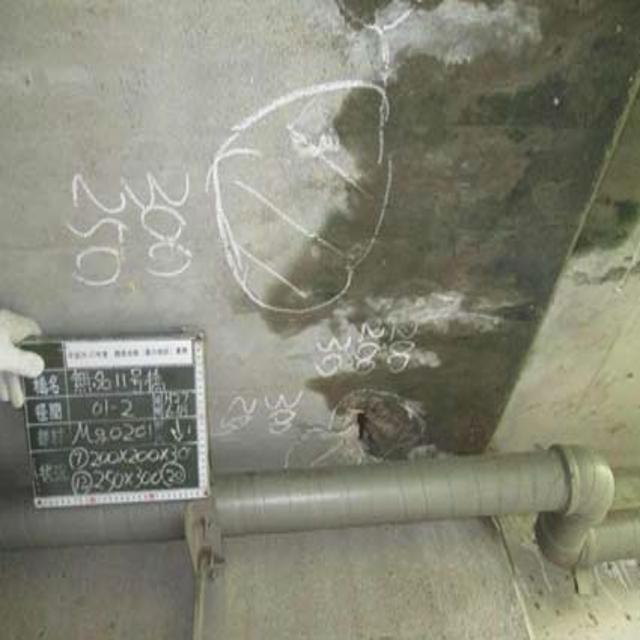leakage: (336, 9, 627, 438)
